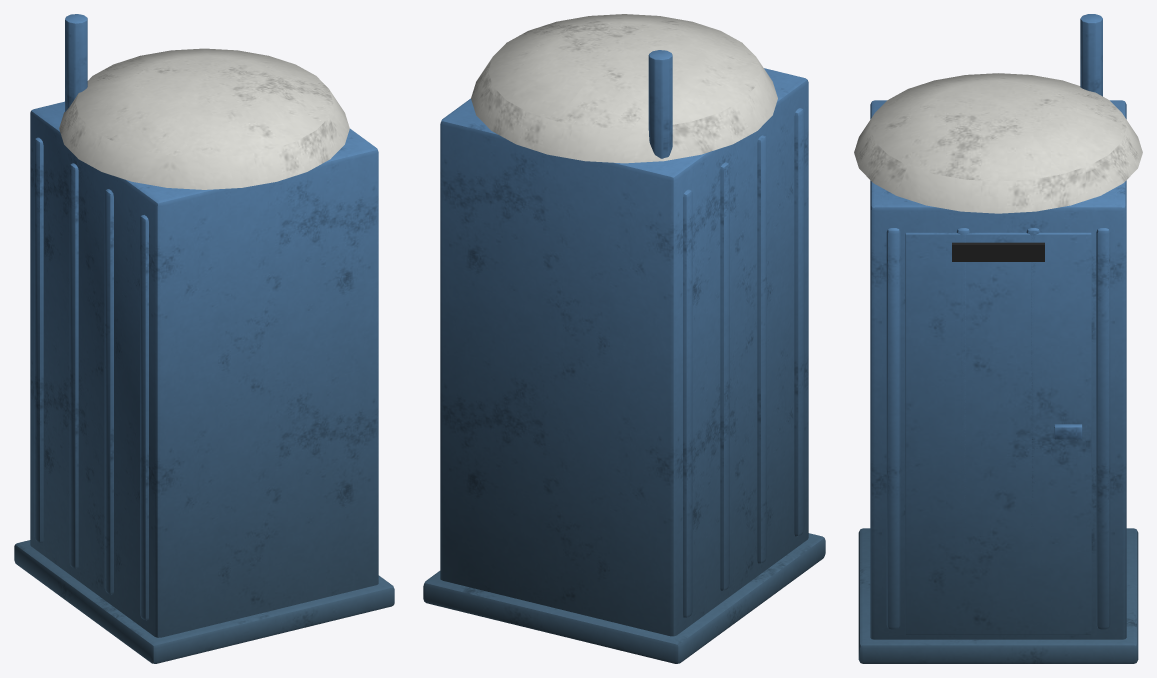
Rendered from prop_portaloo.glb.
The picture shows the model from 3 angles, left to right: view 1: azimuth 30°, elevation 25°; view 2: azimuth 150°, elevation 25°; view 3: azimuth 270°, elevation 25°; orthographic projection. The views are drawn at different scales.
Visible parts, largest first — view 1: Shell, Roof, Bits; view 2: Shell, Roof, Bits; view 3: Bits, Shell, Roof, Vent.
Part boxes in pixels (<box>): Shell: <box>14,101,394,663</box>; Roof: <box>59,48,349,189</box>; Bits: <box>65,14,87,111</box>; Shell: <box>423,68,825,663</box>; Roof: <box>471,14,777,163</box>; Bits: <box>648,50,672,158</box>; Bits: <box>905,14,1102,634</box>; Shell: <box>858,100,1138,663</box>; Roof: <box>854,73,1142,213</box>; Vent: <box>952,242,1044,261</box>.
Bounding box in the file's own units: 1.24 × 2.6 × 1.24.
3 materials, 2 textured.
